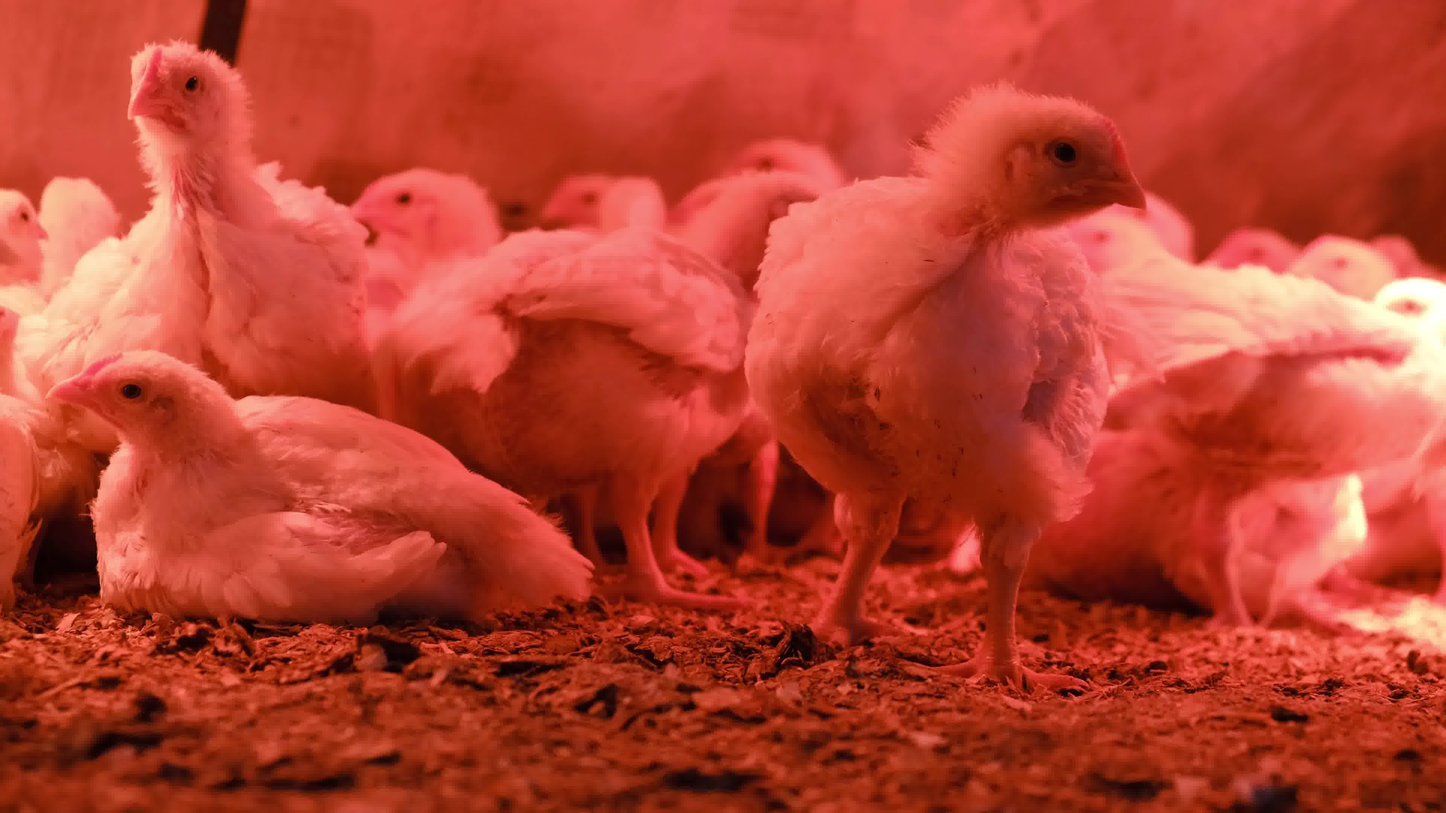AbNormal: (30, 365, 606, 638)
Normal: (725, 87, 1201, 704), (437, 169, 810, 617), (72, 45, 397, 359), (1164, 267, 1446, 623), (346, 145, 527, 282), (1256, 220, 1416, 305)
